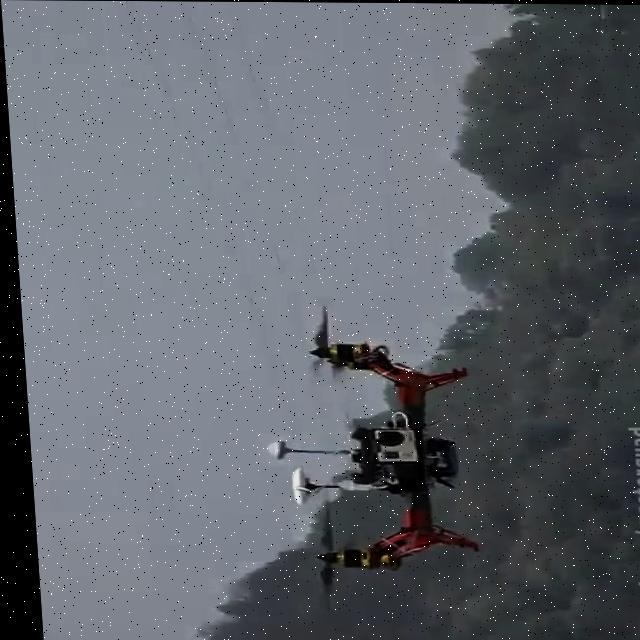drone: (245, 302, 479, 614)
